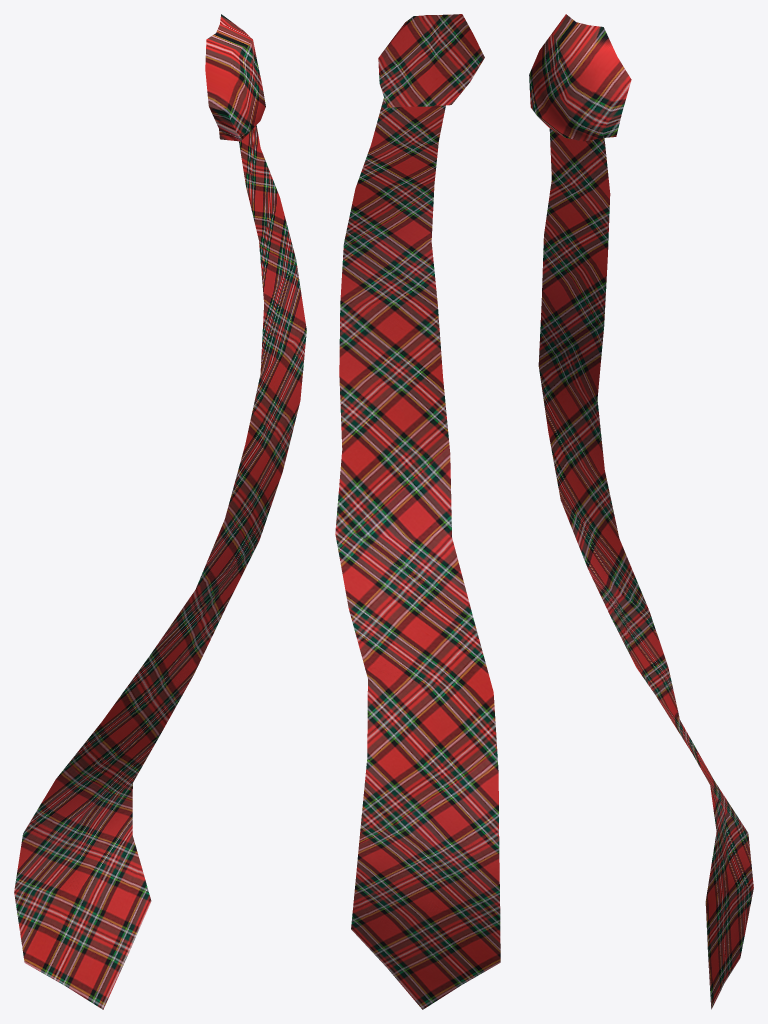
The model's file is Pose-10_SuitTie-1.fbx.
3 views of the same model, side by side, from view 1: azimuth 30°, elevation 25°; view 2: azimuth 150°, elevation 25°; view 3: azimuth 270°, elevation 25° (orthographic). The views are drawn at different scales.
Parts seen in each view (by area): view 1: Pose-10_SuitTie-1; view 2: Pose-10_SuitTie-1; view 3: Pose-10_SuitTie-1.
Part boxes in pixels (x1,y1,x2,y2): Pose-10_SuitTie-1: (14, 14, 306, 1009); Pose-10_SuitTie-1: (335, 14, 500, 1009); Pose-10_SuitTie-1: (529, 14, 753, 1009).
Bounding box in the file's own units: 11.02 × 46.15 × 9.27.
